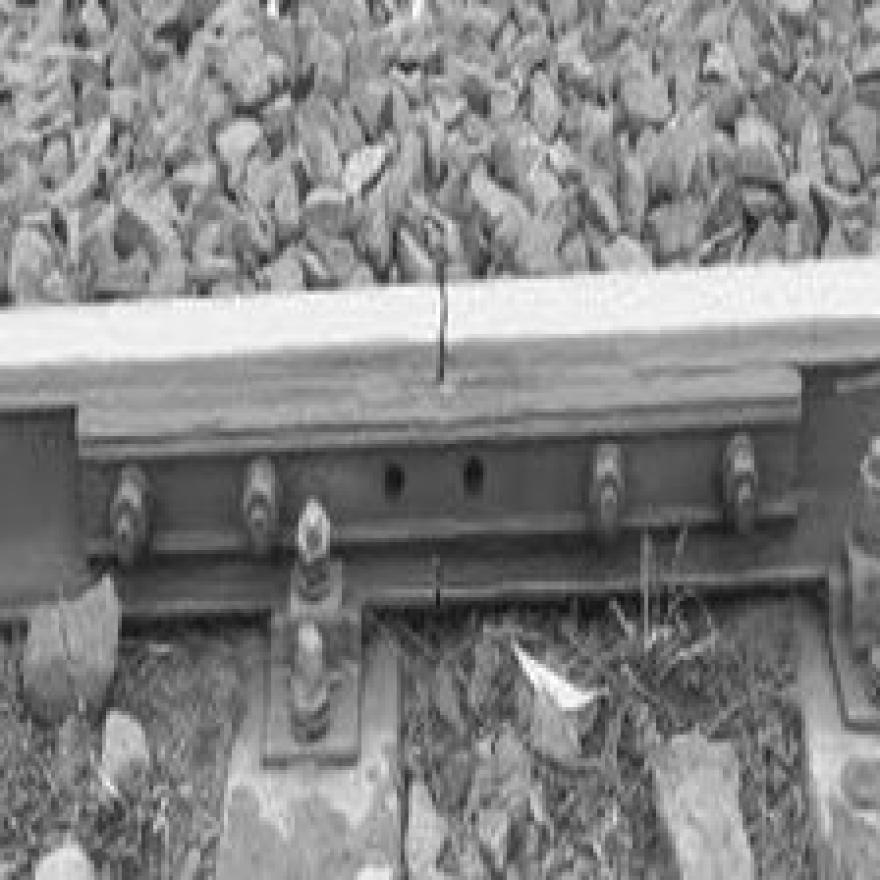railway-gap: (376, 252, 514, 399)
